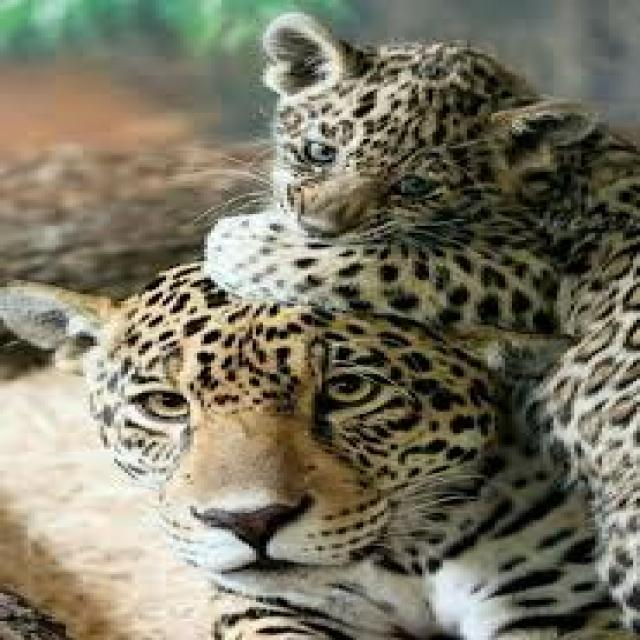Jaguar: (3, 256, 571, 633), (249, 12, 640, 489)
